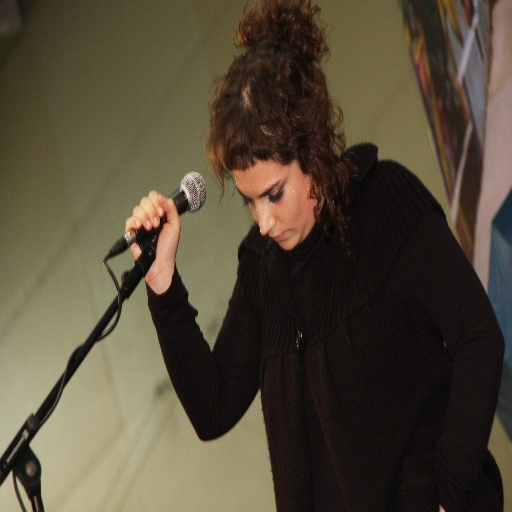hand: (116, 200, 188, 310)
